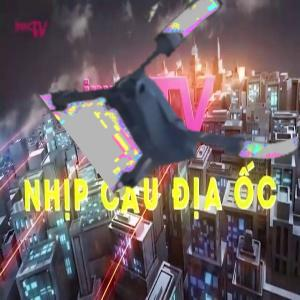drone: (81, 7, 295, 221)
